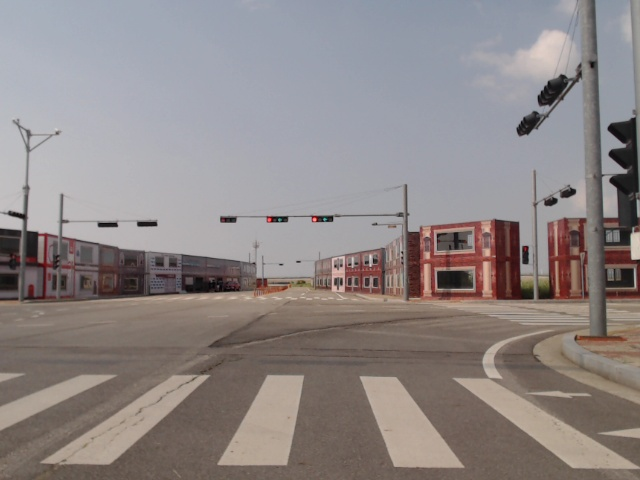left_green_4: (312, 216, 333, 222), (267, 217, 287, 222)
